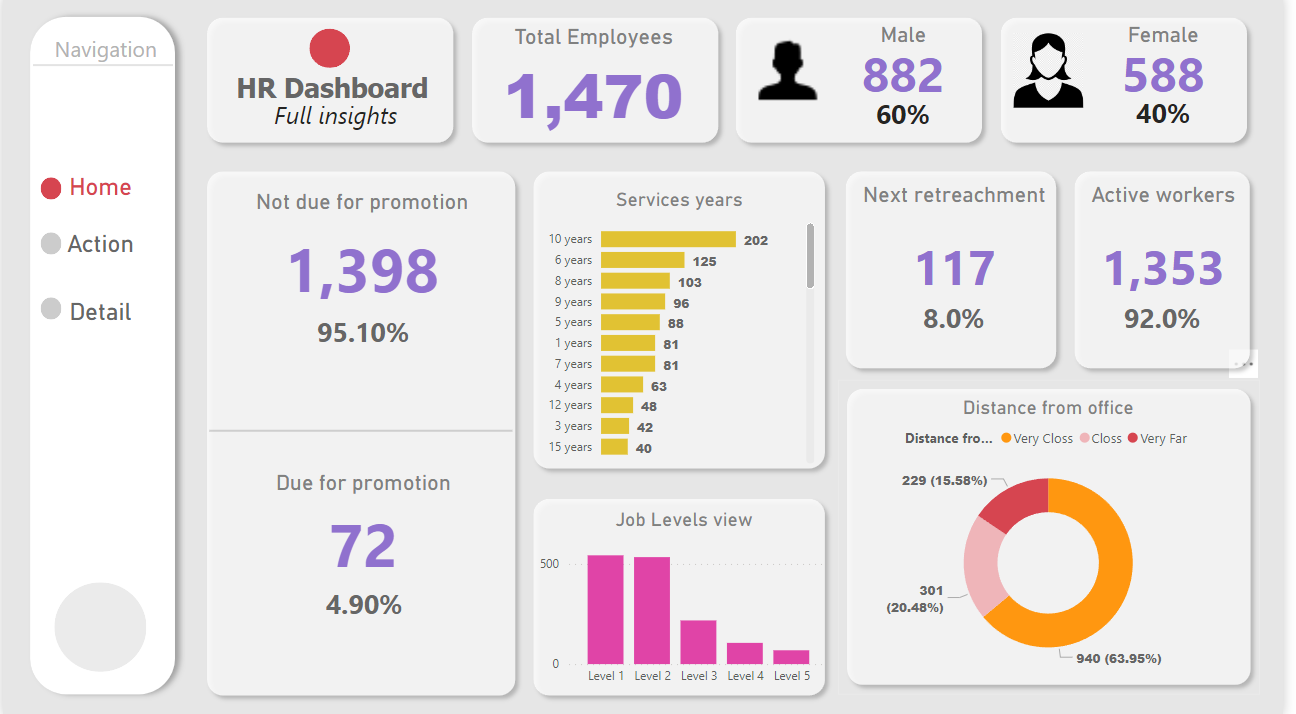

This screenshot's page, from the dashboard's own definition file:
{"tool":"powerbi","page":{"name":"Home","canvas":[1280,720],"ordinal":0},"visuals":[{"type":"shape","box":[16.5,9.6,166.5,699.2],"z":0},{"type":"shape","box":[195.4,12.4,264.3,143.1],"z":1000},{"type":"shape","box":[459.7,12.4,264.3,143.1],"z":2000},{"type":"shape","box":[724,12.4,264.3,143.1],"z":3000},{"type":"shape","box":[988.2,12.4,264.3,143.1],"z":4000},{"type":"shape","box":[195.4,166.5,326.2,542.3],"z":5000},{"type":"shape","box":[521.6,166.2,309.7,315.2],"z":6000},{"type":"shape","box":[521.6,494.1,309.7,214.7],"z":7000},{"type":"shape","box":[834.8,384.2,421.6,314.1],"z":8000},{"type":"shape","box":[833.6,166.7,228.3,215],"z":9000},{"type":"shape","box":[1063.1,166.7,193.3,215],"z":10000},{"type":"textbox","box":[209.7,71.2,238.7,51.4],"z":11000},{"type":"textbox","box":[36.9,33,130.5,51.4],"z":12000},{"type":"textbox","box":[209.7,97.6,251.9,55.4],"z":13000},{"type":"shape","box":[305.9,33,40.9,39.6],"z":14000},{"type":"card","title":"Total Employees","fields":{"Values":["All Measures.Total Emp"]},"box":[468,27.5,246.4,112.9],"z":15000},{"type":"card","title":"Male","fields":{"Values":["All Measures.Male"]},"box":[814.8,26.2,170.7,75.7],"z":16000},{"type":"card","fields":{"Values":["All Measures.Male %"]},"box":[834.1,90.8,132.1,55.1],"z":17000},{"type":"card","title":"Female","fields":{"Values":["All Measures.Female"]},"box":[1068.7,26.2,183.1,75.7],"z":18000},{"type":"card","fields":{"Values":["All Measures.Female %"]},"box":[1083.9,90.8,152.8,53.7],"z":19000},{"type":"image","box":[736.3,26.2,95,90.8],"z":20000},{"type":"actionButton","title":"Home","box":[27.8,176.4,140.1,30.2],"z":21000},{"type":"image","box":[1004.7,33,79.8,84],"z":22000},{"type":"actionButton","title":"Action","box":[27.7,233.4,139.8,56.7],"z":23000},{"type":"card","title":"Active workers","fields":{"Values":["All Measures.On service"]},"box":[1058.3,186,203,142.6],"z":24000},{"type":"actionButton","title":"Detail","box":[27.7,300.7,139.8,58],"z":25000},{"type":"card","fields":{"Values":["All Measures.% Active workers"]},"box":[1082.4,296,153.4,53.2],"z":26000},{"type":"card","title":"Next retreachment","fields":{"Values":["All Measures.Due for retirment"]},"box":[843.2,186,215,142.6],"z":27000},{"type":"card","fields":{"Values":["All Measures.%Due for retirment"]},"box":[865,296,171.5,53.2],"z":28000},{"type":"columnChart","title":"Job Levels view","fields":{"Category":["HR Analytics Data.Job Level"],"Y":["All Measures.Total Emp"]},"box":[531.3,512,300,185.8],"z":29000},{"type":"barChart","title":"Services years","fields":{"Category":["HR Analytics Data.Total working Years"],"Y":["All Measures.Total Emp"]},"box":[536.4,192.1,280.3,280.3],"z":30000},{"type":"donutChart","title":"Distance from office","fields":{"Category":["HR Analytics Data.Distance from office"],"Y":["All Measures.Total Emp"]},"box":[840.8,399.9,408.3,282.7],"z":31000},{"type":"card","title":"Not due for promotion","fields":{"Values":["All Measures.Not Due"]},"box":[207.8,192.1,303.2,130.5],"z":32000},{"type":"card","title":"Due for promotion","fields":{"Values":["All Measures.Due for promotion"]},"box":[209,473.8,303.2,119.6],"z":33000},{"type":"shape","box":[206.6,427.7,303.2,14.5],"z":34000},{"type":"card","fields":{"Values":["All Measures.% Not due for promotion"]},"box":[283.5,309.7,152.8,53.7],"z":35000},{"type":"card","fields":{"Values":["All Measures.% Due for promotion"]},"box":[285.1,582.5,152.2,53.2],"z":36000},{"type":"shape","box":[36.9,180.7,21.1,22.4],"z":37000},{"type":"shape","box":[36.9,236,21.1,22.4],"z":38000},{"type":"shape","box":[36.9,300.7,21.1,22.4],"z":39000},{"type":"shape","box":[51.4,586.8,92.3,89.7],"z":40000},{"type":"shape","box":[30.2,61.6,140.1,15.7],"z":41000},{"type":"actionButton","box":[30,221.2,117.5,51.2],"z":41001},{"type":"actionButton","box":[30,290,117.5,51.2],"z":41002}]}

Visuals, with their boxes in screenshot pixels (x1, y1, x2, y2), scaled from the page's 1280x720 canvas onto the 1296x714 screenshot:
shape: pyautogui.locateOnScreen(17, 10, 185, 703)
shape: pyautogui.locateOnScreen(198, 12, 465, 154)
shape: pyautogui.locateOnScreen(465, 12, 733, 154)
shape: pyautogui.locateOnScreen(733, 12, 1001, 154)
shape: pyautogui.locateOnScreen(1001, 12, 1268, 154)
shape: pyautogui.locateOnScreen(198, 165, 528, 703)
shape: pyautogui.locateOnScreen(528, 165, 842, 477)
shape: pyautogui.locateOnScreen(528, 490, 842, 703)
shape: pyautogui.locateOnScreen(845, 381, 1272, 692)
shape: pyautogui.locateOnScreen(844, 165, 1075, 379)
shape: pyautogui.locateOnScreen(1076, 165, 1272, 379)
textbox: pyautogui.locateOnScreen(212, 71, 454, 122)
textbox: pyautogui.locateOnScreen(37, 33, 169, 84)
textbox: pyautogui.locateOnScreen(212, 97, 467, 152)
shape: pyautogui.locateOnScreen(310, 33, 351, 72)
"Total Employees" card: pyautogui.locateOnScreen(474, 27, 723, 139)
"Male" card: pyautogui.locateOnScreen(825, 26, 998, 101)
card - All Measures.Male %: pyautogui.locateOnScreen(845, 90, 978, 145)
"Female" card: pyautogui.locateOnScreen(1082, 26, 1267, 101)
card - All Measures.Female %: pyautogui.locateOnScreen(1097, 90, 1252, 143)
image: pyautogui.locateOnScreen(746, 26, 842, 116)
"Home" actionButton: pyautogui.locateOnScreen(28, 175, 170, 205)
image: pyautogui.locateOnScreen(1017, 33, 1098, 116)
"Action" actionButton: pyautogui.locateOnScreen(28, 231, 170, 288)
"Active workers" card: pyautogui.locateOnScreen(1072, 184, 1277, 326)
"Detail" actionButton: pyautogui.locateOnScreen(28, 298, 170, 356)
card - All Measures.% Active workers: pyautogui.locateOnScreen(1096, 294, 1251, 346)
"Next retreachment" card: pyautogui.locateOnScreen(854, 184, 1071, 326)
card - All Measures.%Due for retirment: pyautogui.locateOnScreen(876, 294, 1049, 346)
"Job Levels view" columnChart: pyautogui.locateOnScreen(538, 508, 842, 692)
"Services years" barChart: pyautogui.locateOnScreen(543, 190, 827, 468)
"Distance from office" donutChart: pyautogui.locateOnScreen(851, 397, 1265, 677)
"Not due for promotion" card: pyautogui.locateOnScreen(210, 190, 517, 320)
"Due for promotion" card: pyautogui.locateOnScreen(212, 470, 519, 588)
shape: pyautogui.locateOnScreen(209, 424, 516, 439)
card - All Measures.% Not due for promotion: pyautogui.locateOnScreen(287, 307, 442, 360)
card - All Measures.% Due for promotion: pyautogui.locateOnScreen(289, 578, 443, 630)
shape: pyautogui.locateOnScreen(37, 179, 59, 201)
shape: pyautogui.locateOnScreen(37, 234, 59, 256)
shape: pyautogui.locateOnScreen(37, 298, 59, 320)
shape: pyautogui.locateOnScreen(52, 582, 145, 671)
shape: pyautogui.locateOnScreen(31, 61, 172, 77)
actionButton: pyautogui.locateOnScreen(30, 219, 149, 270)
actionButton: pyautogui.locateOnScreen(30, 288, 149, 338)
